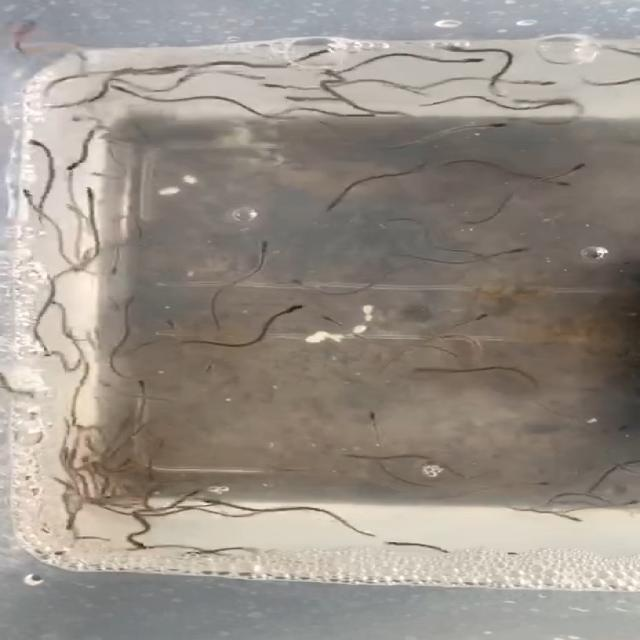inactive_glass_eel: (541, 98, 591, 119), (542, 174, 591, 193), (115, 377, 165, 394), (434, 40, 473, 59), (556, 514, 597, 532), (130, 536, 162, 558), (311, 67, 352, 83), (23, 138, 57, 156), (304, 46, 336, 65), (285, 90, 322, 106), (402, 154, 431, 172), (526, 71, 556, 88), (179, 484, 207, 502), (494, 246, 529, 259), (58, 156, 86, 172), (458, 56, 489, 70), (246, 240, 276, 254), (562, 159, 592, 173), (195, 366, 233, 377), (461, 309, 490, 323), (282, 276, 315, 288), (280, 302, 308, 316), (199, 499, 229, 512), (91, 171, 118, 185), (72, 186, 103, 198), (343, 448, 368, 462), (121, 295, 142, 310), (327, 311, 343, 329), (106, 264, 132, 275), (362, 412, 386, 422), (258, 82, 282, 88)
